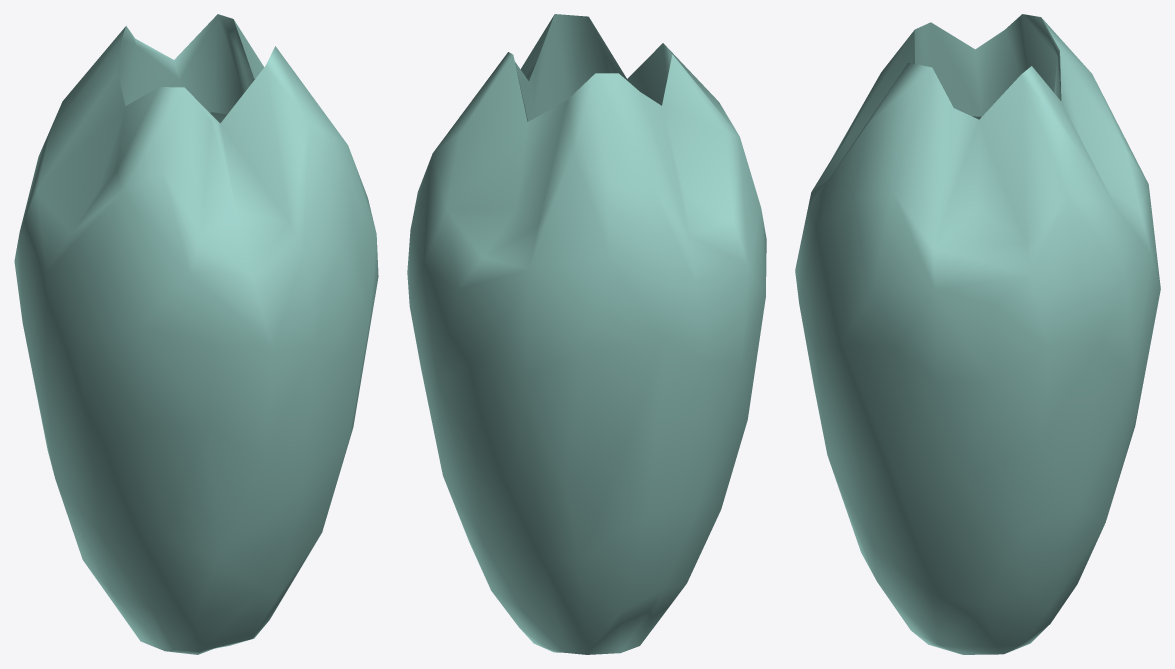
File: Vase0008.obj
3 views of the same model, side by side, from view 1: azimuth 30°, elevation 25°; view 2: azimuth 150°, elevation 25°; view 3: azimuth 270°, elevation 25° (orthographic).
Bounding box in the file's own units: 0.268 × 0.488 × 0.272.
1 material, 1 textured.
